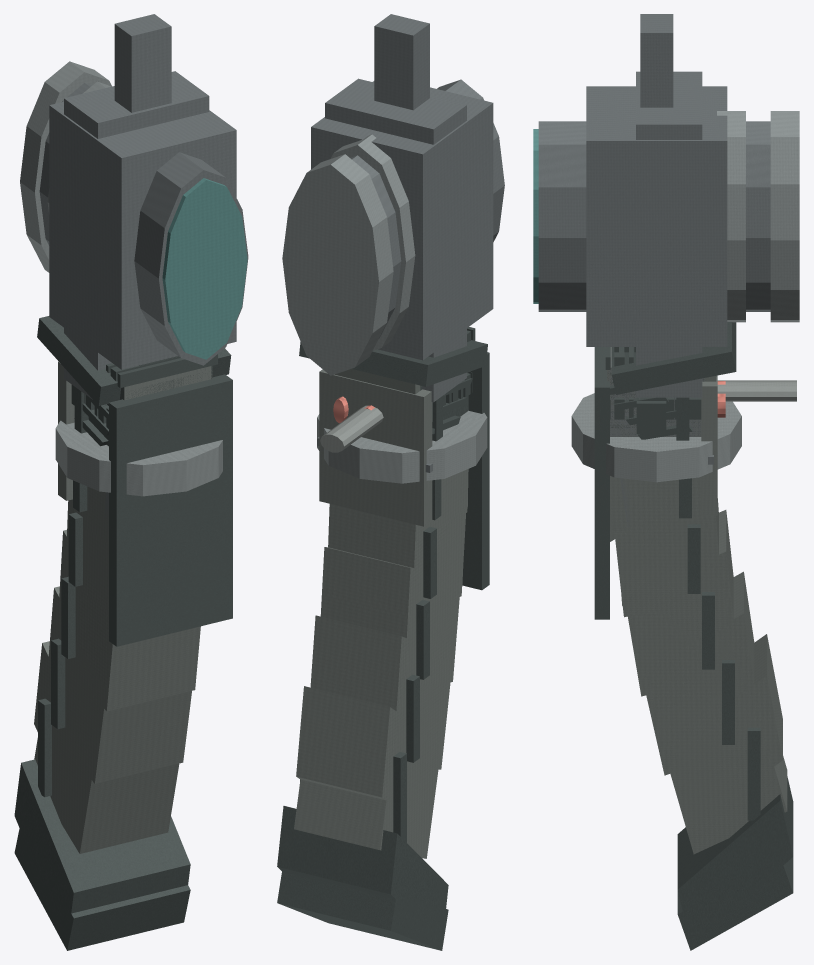
Rendered from weapon_scorpion.glb.
3 views of the same model, side by side, from view 1: azimuth 30°, elevation 25°; view 2: azimuth 150°, elevation 25°; view 3: azimuth 270°, elevation 25° (orthographic). The views are drawn at different scales.
Visible parts, largest first — view 1: weapon_scorpion__L0_optic__prism2, weapon_scorpion__L0_magazine__scorpion_30, weapon_scorpion__L1_optic__prism2, weapon_scorpion__L0_stock__scorpion_stock, weapon_scorpion__L0_magazine__scorpion_20, weapon_scorpion__L1_magazine__scorpion_30, weapon_scorpion__L1_stock__scorpion_stock, weapon_scorpion__L0_optic__dot_tube, weapon_scorpion__L1_magazine__scorpion_20, weapon_scorpion__L0_optic__scope4, weapon_scorpion__L1_optic__dot_tube, weapon_scorpion__L0_handguard_light__wide_light (+10 smaller); view 2: weapon_scorpion__L1_magazine__scorpion_20, weapon_scorpion__L0_optic__prism2, weapon_scorpion__L1_magazine__scorpion_30, weapon_scorpion__L1_optic__prism2, weapon_scorpion__L0_optic__scope4, weapon_scorpion__L0_stock__scorpion_stock, weapon_scorpion__L0_magazine__scorpion_30, weapon_scorpion__L0_magazine__scorpion_20, weapon_scorpion__L0_optic__dot_tube, weapon_scorpion__L1_optic__dot_tube, weapon_scorpion__L1_stock__scorpion_stock, weapon_scorpion__L0_handguard_light__wide_light (+8 smaller); view 3: weapon_scorpion__L0_optic__prism2, weapon_scorpion__L1_magazine__scorpion_20, weapon_scorpion__L0_magazine__scorpion_20, weapon_scorpion__L1_optic__prism2, weapon_scorpion__L0_magazine__scorpion_30, weapon_scorpion__L0_optic__scope4, weapon_scorpion__L1_magazine__scorpion_30, weapon_scorpion__L0_optic__dot_tube, weapon_scorpion__L0_handguard_light__wide_light, weapon_scorpion__L1_optic__scope4, weapon_scorpion__L1_stock__scorpion_stock, weapon_scorpion__L0_stock__scorpion_stock (+11 smaller).
Part boxes in pixels (box(x1,y1,x2,y2)): weapon_scorpion__L0_optic__prism2: box(20, 61, 245, 365); weapon_scorpion__L0_magazine__scorpion_30: box(15, 368, 210, 945); weapon_scorpion__L1_optic__prism2: box(20, 61, 247, 369); weapon_scorpion__L0_stock__scorpion_stock: box(58, 364, 231, 641); weapon_scorpion__L0_magazine__scorpion_20: box(15, 387, 187, 939); weapon_scorpion__L1_magazine__scorpion_30: box(14, 369, 212, 950); weapon_scorpion__L1_stock__scorpion_stock: box(58, 361, 232, 646); weapon_scorpion__L0_optic__dot_tube: box(48, 15, 245, 355); weapon_scorpion__L1_magazine__scorpion_20: box(14, 387, 190, 945); weapon_scorpion__L0_optic__scope4: box(39, 76, 241, 361); weapon_scorpion__L1_optic__dot_tube: box(47, 14, 247, 359); weapon_scorpion__L0_handguard_light__wide_light: box(55, 422, 222, 495); weapon_scorpion__L1_magazine__scorpion_20: box(277, 401, 468, 925); weapon_scorpion__L0_optic__prism2: box(284, 88, 492, 372); weapon_scorpion__L1_magazine__scorpion_30: box(277, 396, 468, 950); weapon_scorpion__L1_optic__prism2: box(282, 81, 493, 375); weapon_scorpion__L0_optic__scope4: box(284, 80, 504, 371); weapon_scorpion__L0_stock__scorpion_stock: box(321, 354, 489, 588); weapon_scorpion__L0_magazine__scorpion_30: box(280, 396, 466, 947); weapon_scorpion__L0_magazine__scorpion_20: box(279, 402, 455, 932); weapon_scorpion__L0_optic__dot_tube: box(333, 15, 429, 346); weapon_scorpion__L1_optic__dot_tube: box(330, 14, 429, 350); weapon_scorpion__L1_stock__scorpion_stock: box(319, 352, 489, 590); weapon_scorpion__L0_handguard_light__wide_light: box(317, 416, 487, 482); weapon_scorpion__L0_optic__prism2: box(575, 87, 798, 343); weapon_scorpion__L1_magazine__scorpion_20: box(610, 398, 793, 923); weapon_scorpion__L0_magazine__scorpion_20: box(610, 376, 792, 940); weapon_scorpion__L1_optic__prism2: box(574, 86, 799, 346); weapon_scorpion__L0_magazine__scorpion_30: box(611, 432, 792, 947); weapon_scorpion__L0_optic__scope4: box(539, 121, 770, 311); weapon_scorpion__L1_magazine__scorpion_30: box(610, 397, 793, 950); weapon_scorpion__L0_optic__dot_tube: box(534, 14, 744, 436); weapon_scorpion__L0_handguard_light__wide_light: box(571, 397, 741, 481); weapon_scorpion__L1_optic__scope4: box(538, 121, 770, 311); weapon_scorpion__L1_stock__scorpion_stock: box(594, 347, 717, 619); weapon_scorpion__L0_stock__scorpion_stock: box(595, 347, 717, 559).
Bounding box in the file's own units: 1.71 × 9.98 × 2.68.
3 materials, 3 textured.
